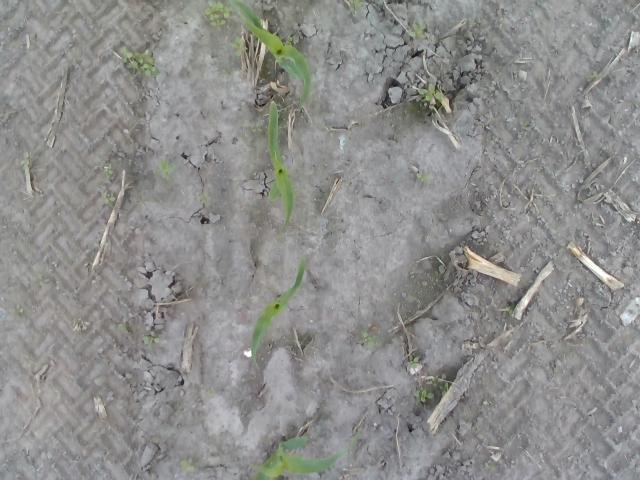Maize: (227, 1, 313, 111), (249, 256, 310, 368), (250, 432, 362, 479), (267, 101, 296, 232)
Weeds: (119, 45, 158, 76), (204, 1, 229, 29), (418, 84, 444, 106), (424, 376, 449, 396), (156, 161, 176, 178), (414, 388, 434, 405), (229, 38, 246, 57), (408, 23, 428, 39), (358, 332, 378, 348), (180, 458, 197, 475), (141, 332, 159, 348), (100, 192, 114, 207), (405, 356, 419, 370), (416, 173, 432, 184), (251, 122, 262, 135), (507, 302, 517, 316), (116, 325, 130, 334), (584, 71, 598, 80), (199, 192, 210, 203), (350, 0, 362, 10), (484, 463, 496, 472), (21, 152, 28, 166), (104, 164, 112, 176)
